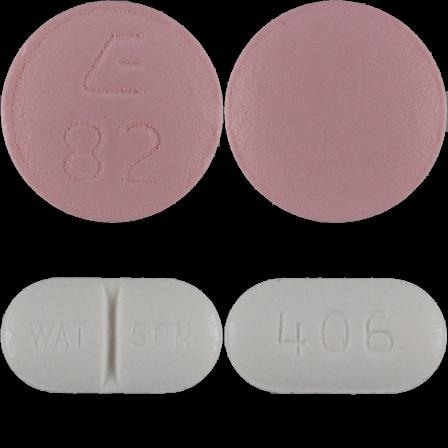21695-327: (0, 0, 224, 224)
